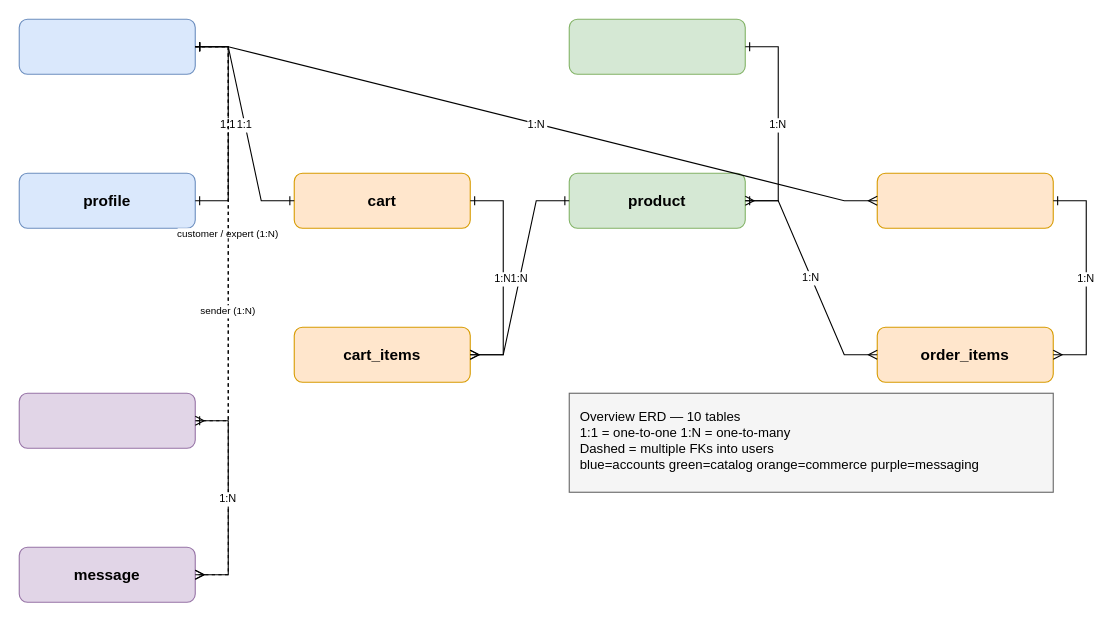
Some shapes in this 1115 by 622 pixel diagram are drawn without their labels. Each missing label, with the centre of its shape:
"category" goes at pixel 656 46.
"conversation" goes at pixel 106 420.
"orders" goes at pixel 964 200.
"users" goes at pixel 106 46.
